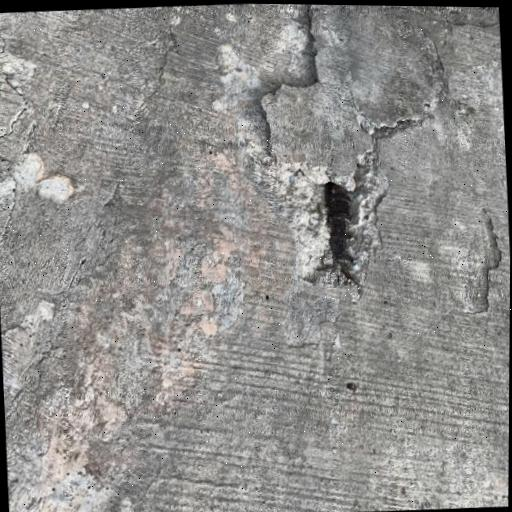exposed_rebar: (325, 182, 350, 260)
